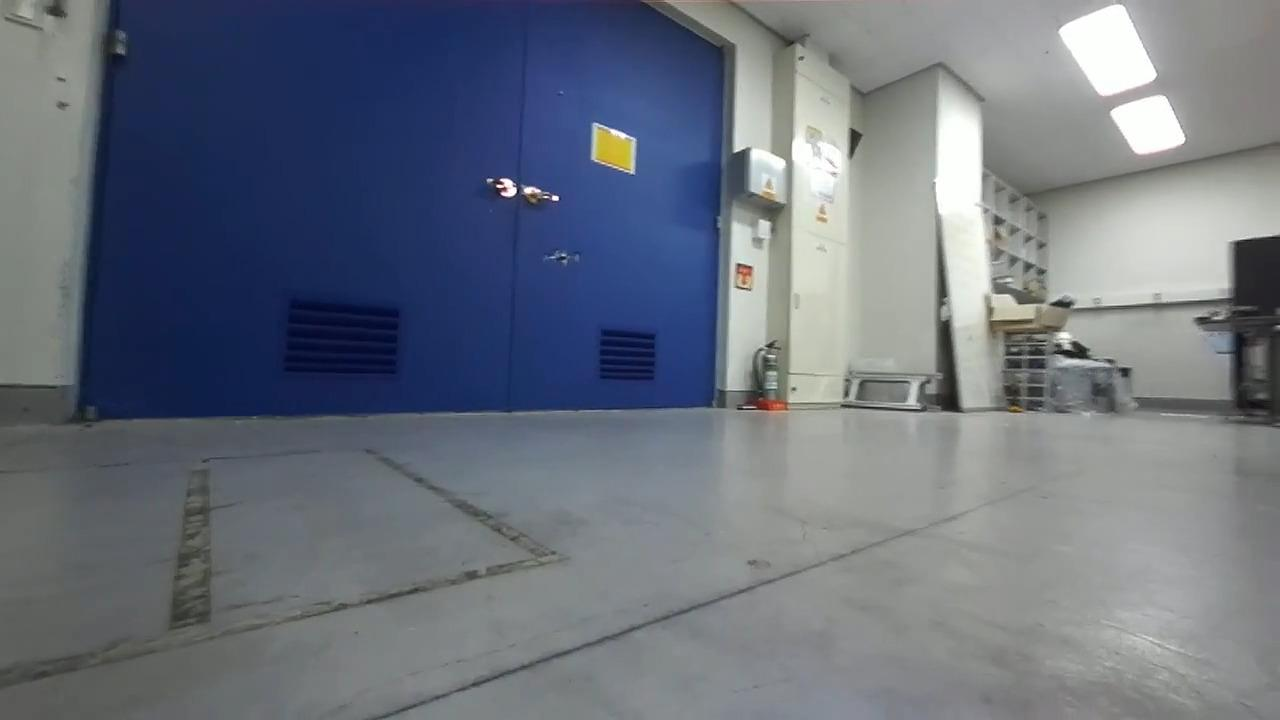crazyflie: (536, 245, 584, 269)
